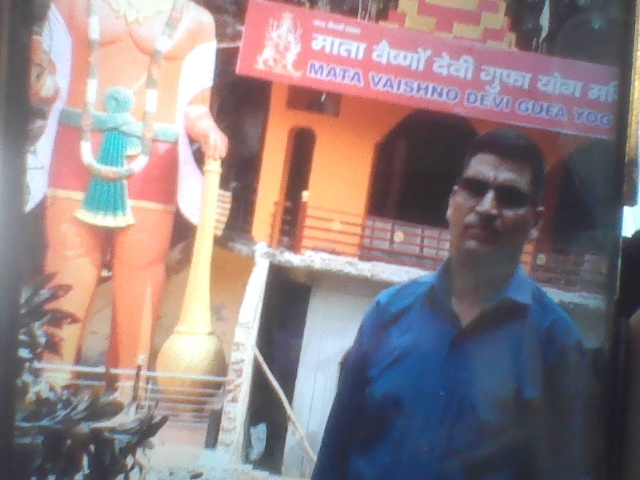fake: (424, 117, 547, 292)
